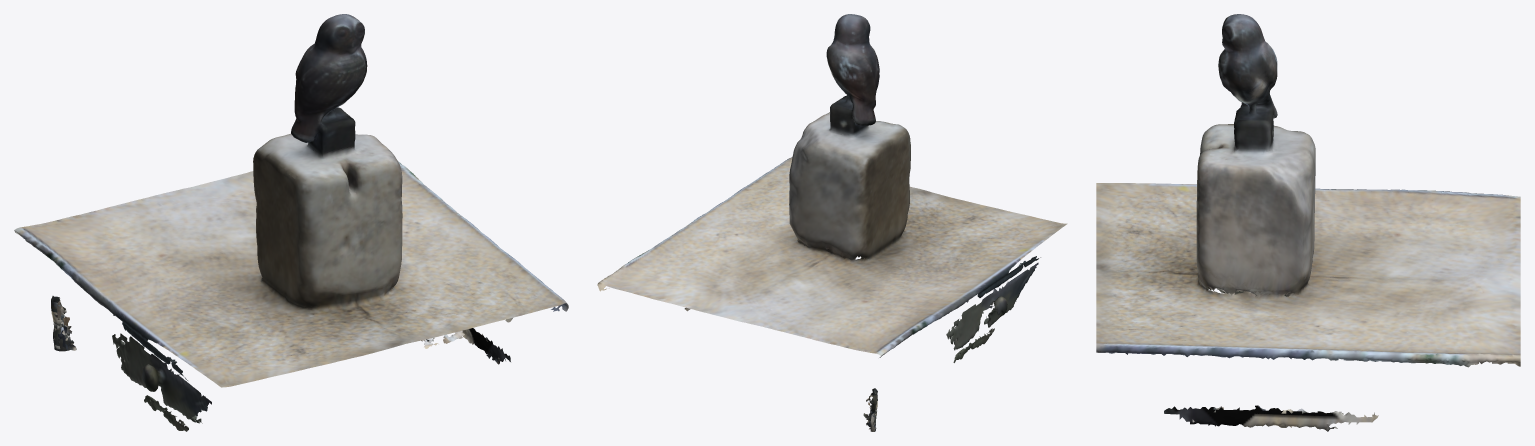
The model's file is chouette.glb.
3 views of the same model, side by side, from view 1: azimuth 30°, elevation 25°; view 2: azimuth 150°, elevation 25°; view 3: azimuth 270°, elevation 25° (orthographic). The views are drawn at different scales.
Visible parts, largest first — view 1: Model; view 2: Model; view 3: Model.
Boxes of the visible parts, x1,y1,x2,y2 form: Model: (14, 14, 568, 431); Model: (597, 14, 1067, 431); Model: (1096, 14, 1520, 431).
Size of the model in its own units: 0.473 by 0.4753 by 0.489.
1 material, 1 textured.
